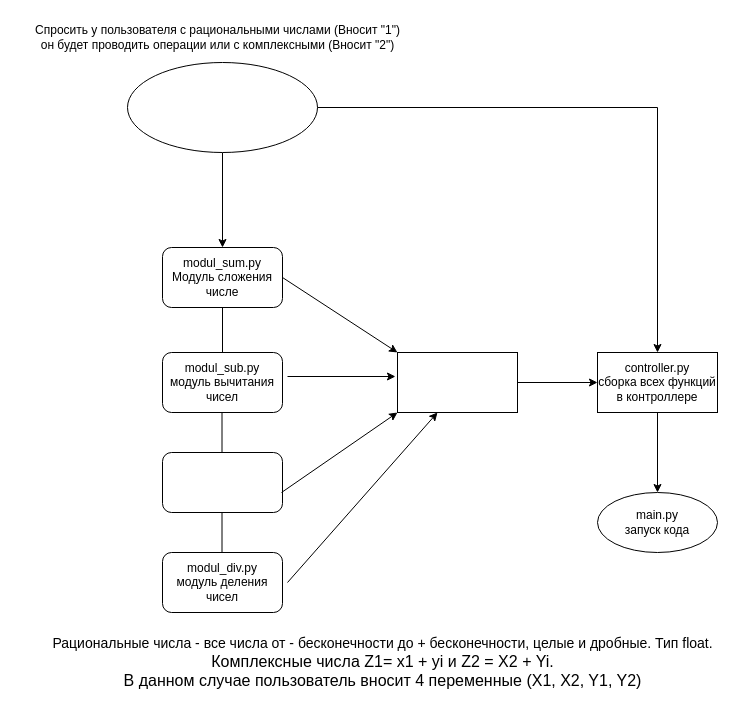
Some shapes in this 749 by 714 pixel diagram are drawn without their labels. The box of each missing label's shape, as (x1, y1, x2, y2) in pixels:
logger.py запись всех данных в txt файл: (396, 352, 518, 412)
modul_multi.py модуль умножения чисел: (162, 452, 282, 512)
view.py модуль ввода данных, вывода данных: (126, 62, 318, 152)
